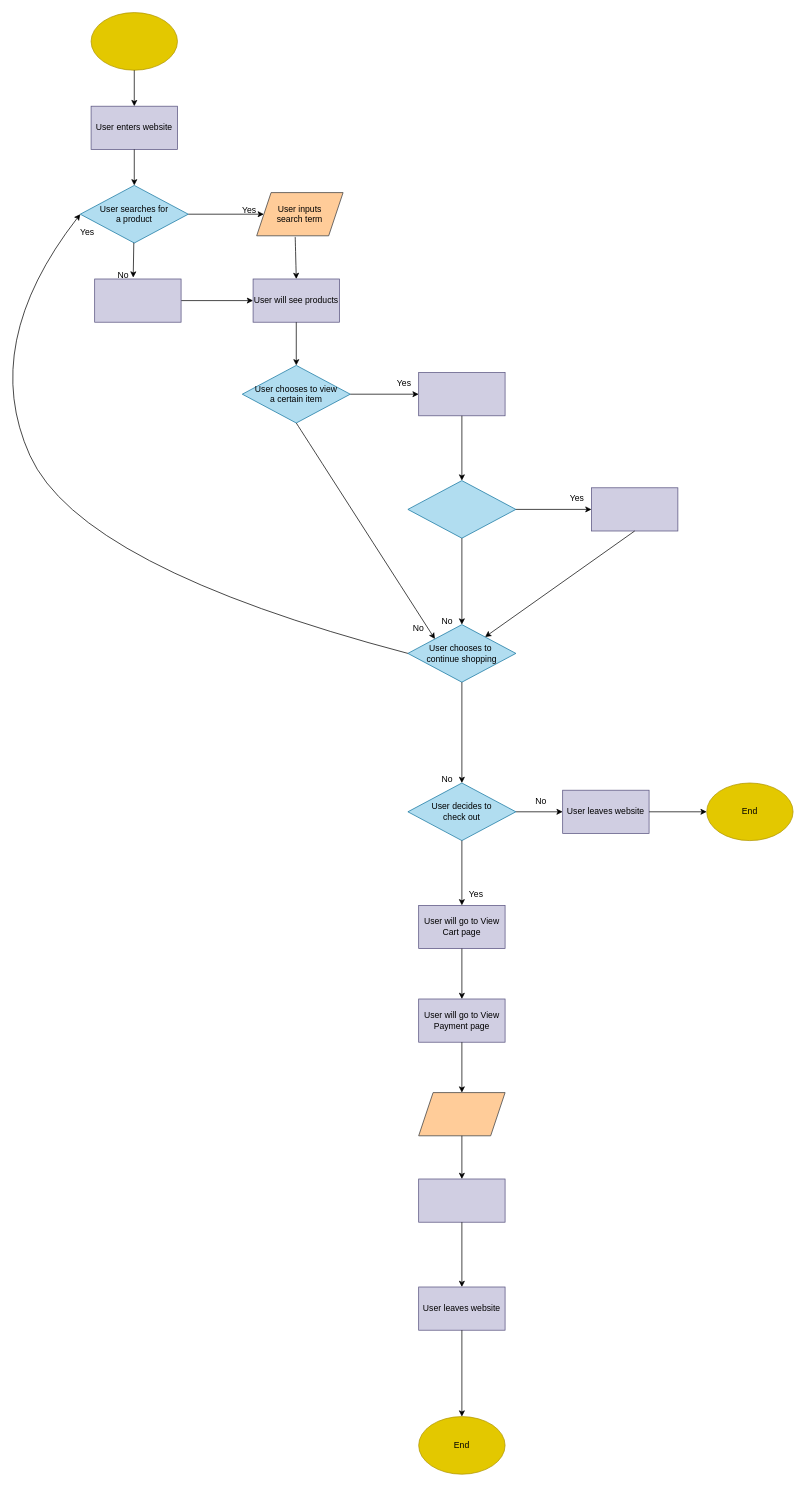
This 806x1487 diagram has some shape labels left out. The centre of each missing label's shape, as x and y in pixels:
Start: (133,41)
User adds the item to cart: (461,509)
User explores home page: (137,300)
User inputs payment info: (461,1114)
User will receive a confirmation page: (634,509)
User will see confirmation page and get emailed confirmation: (461,1200)
User will see the item's page: (461,394)
